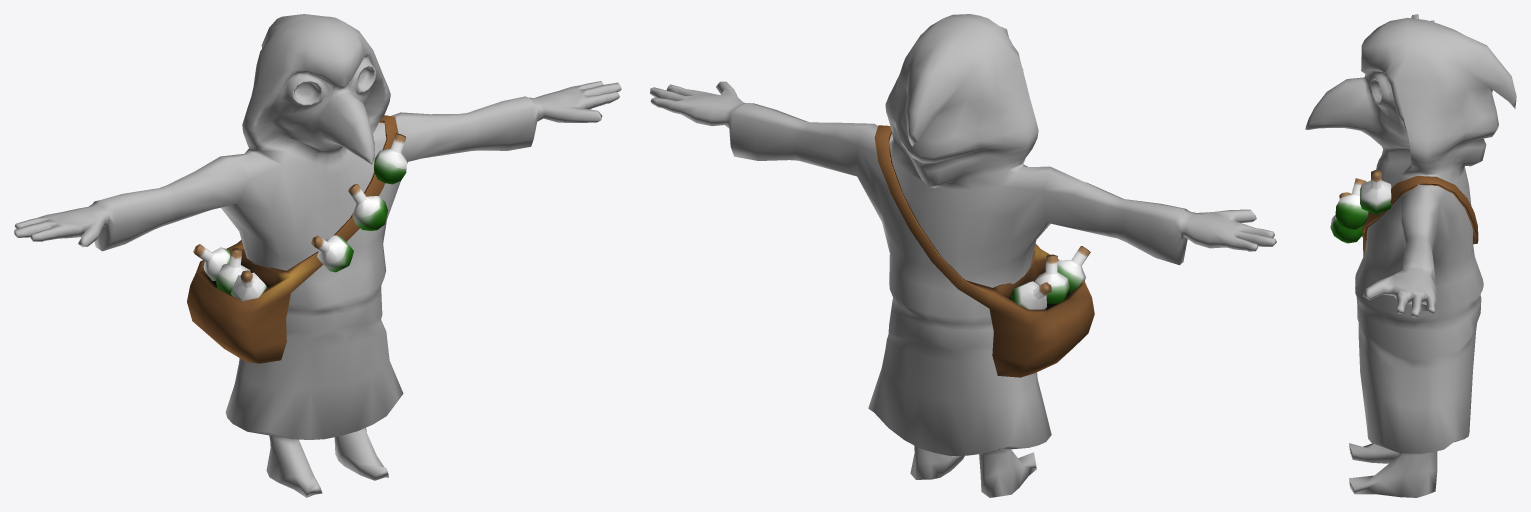
File: decayFull.fbx
The picture shows the model from 3 angles, left to right: view 1: azimuth 30°, elevation 25°; view 2: azimuth 150°, elevation 25°; view 3: azimuth 270°, elevation 25°; orthographic projection. The views are drawn at different scales.
Parts seen in each view (by area): view 1: decayBaseMesh, decayBag, polySurface2; view 2: decayBaseMesh, decayBag, polySurface2; view 3: decayBaseMesh, polySurface2, decayBag.
Boxes of the visible parts, box(x1,y1,x2,y2) form: decayBaseMesh: box(14, 14, 621, 497); decayBag: box(187, 115, 398, 363); polySurface2: box(193, 133, 406, 302); decayBaseMesh: box(650, 14, 1276, 497); decayBag: box(874, 125, 1094, 377); polySurface2: box(1011, 246, 1090, 309); decayBaseMesh: box(1305, 14, 1516, 497); polySurface2: box(1330, 169, 1391, 243); decayBag: box(1362, 176, 1478, 256).
Bounding box in the file's own units: 1.63 × 1.15 × 0.4899.
Materials: 3 (1 with a texture image).
